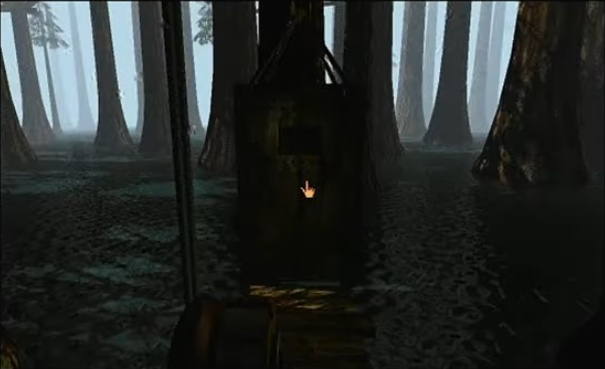Pointer: (297, 176, 320, 201)
